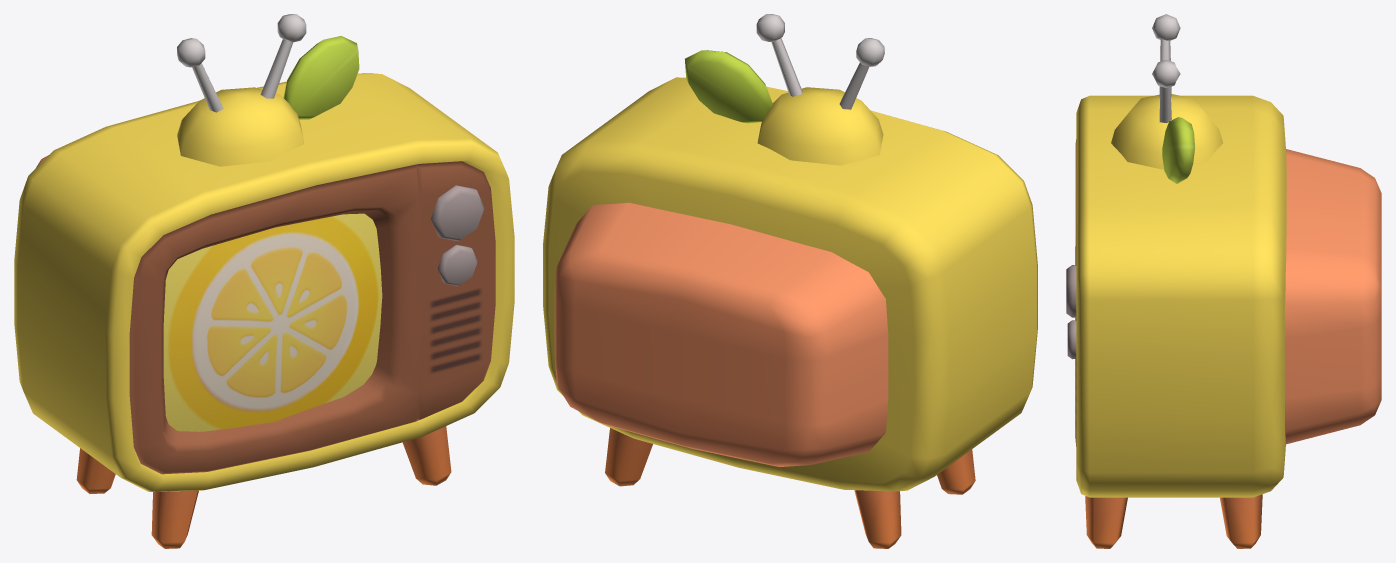
The model's file is Homestead_nm_8.fbx.
3 views of the same model, side by side, from view 1: azimuth 30°, elevation 25°; view 2: azimuth 150°, elevation 25°; view 3: azimuth 270°, elevation 25° (orthographic). The views are drawn at different scales.
Visible parts, largest first — view 1: Homestead_nm_8; view 2: Homestead_nm_8; view 3: Homestead_nm_8.
Part boxes in pixels (box(x1,y1,x2,y2)): Homestead_nm_8: box(14, 14, 514, 548); Homestead_nm_8: box(543, 14, 1037, 548); Homestead_nm_8: box(1066, 14, 1381, 548).
Size of the model in its own units: 100 by 111 by 72.29.
